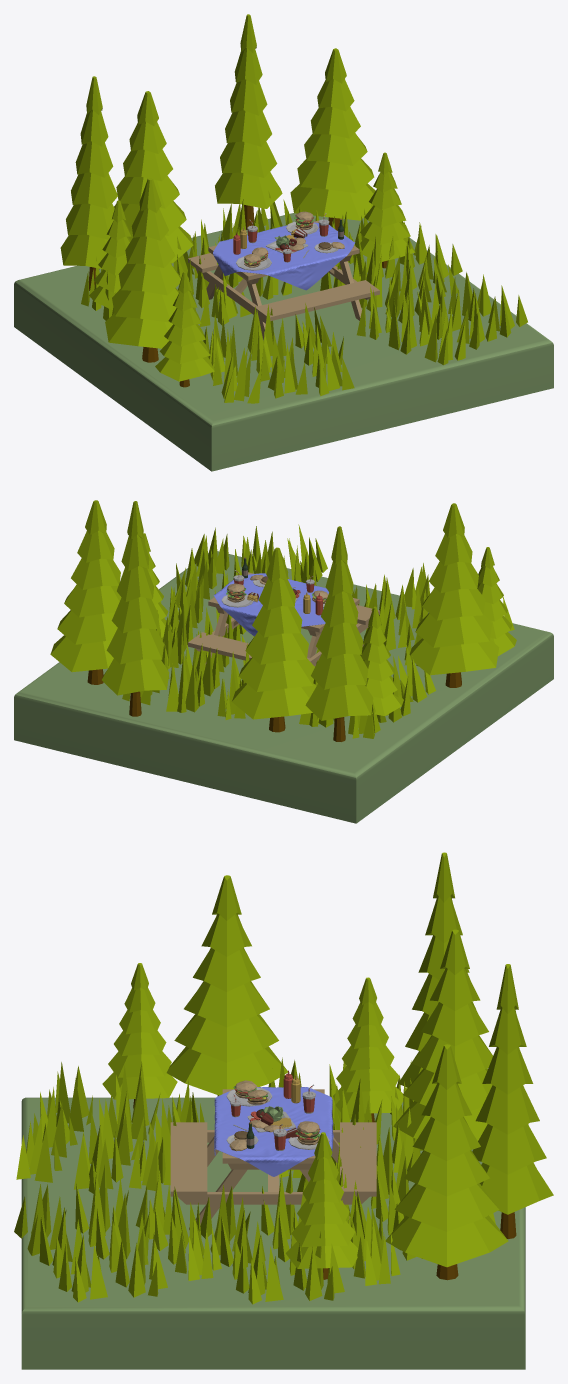
3 views of the same model, one above another, from view 1: azimuth 30°, elevation 25°; view 2: azimuth 150°, elevation 25°; view 3: azimuth 270°, elevation 25° (orthographic). The views are drawn at different scales.
Visible parts, largest first — view 1: TerrainBASE_GEO, TreeLarge_GEO1, TerrainGrass_GEO4, TerrainGrass_GEO, TreeLarge_GEO2, TreeLargeSlim_GEO1, TreeLargeSlim_GEO, TreeLarge_GEO, PicnicTable_GEO, TableCloth_GEO, TerrainGrass_GEO5, TreeSmall_GEO1 (+4 smaller); view 2: TerrainBASE_GEO, TreeLarge_GEO2, TreeLarge_GEO, TreeLarge_GEO1, TreeLargeSlim_GEO1, TreeLargeSlim_GEO, TerrainGrass_GEO4, TerrainGrass_GEO2, TerrainGrass_GEO, TerrainGrass_GEO1, TreeSmall_GEO, TerrainGrass_GEO5 (+4 smaller); view 3: TerrainBASE_GEO, TreeLarge_GEO1, TerrainGrass_GEO4, TreeLarge_GEO2, TerrainGrass_GEO, TreeLargeSlim_GEO1, TerrainGrass_GEO5, PicnicTable_GEO, TreeLarge_GEO, TreeSmall_GEO2, TreeSmall_GEO1, TreeSmall_GEO (+4 smaller).
Part boxes in pixels (box(x1,y1,x2,y2)): TerrainBASE_GEO: box(14, 213, 553, 471); TreeLarge_GEO1: box(290, 48, 375, 230); TerrainGrass_GEO4: box(356, 257, 527, 365); TerrainGrass_GEO: box(203, 303, 354, 403); TreeLarge_GEO2: box(105, 178, 180, 362); TreeLargeSlim_GEO1: box(215, 14, 282, 229); TreeLargeSlim_GEO: box(60, 76, 117, 290); TreeLarge_GEO: box(114, 91, 193, 263); PicnicTable_GEO: box(188, 220, 379, 339); TableCloth_GEO: box(213, 222, 355, 290); TerrainGrass_GEO5: box(320, 204, 462, 311); TreeSmall_GEO1: box(155, 271, 214, 387); TerrainBASE_GEO: box(14, 551, 553, 823); TreeLarge_GEO2: box(409, 503, 499, 687); TreeLarge_GEO: box(232, 547, 316, 732); TreeLarge_GEO1: box(50, 500, 121, 684); TreeLargeSlim_GEO1: box(102, 501, 169, 716); TreeLargeSlim_GEO: box(305, 526, 373, 741); TerrainGrass_GEO4: box(175, 524, 327, 611); TerrainGrass_GEO2: box(122, 621, 253, 719); TerrainGrass_GEO: box(352, 563, 514, 666); TerrainGrass_GEO1: box(299, 643, 435, 738); TreeSmall_GEO: box(360, 606, 403, 715); TerrainGrass_GEO5: box(156, 576, 246, 674); TerrainBASE_GEO: box(21, 1097, 525, 1369); TreeLarge_GEO1: box(385, 1044, 508, 1280); TerrainGrass_GEO4: box(14, 1165, 221, 1302); TreeLarge_GEO2: box(166, 875, 287, 1096); TerrainGrass_GEO: box(16, 1062, 204, 1193); TreeLargeSlim_GEO1: box(472, 964, 553, 1238); TerrainGrass_GEO5: box(200, 1169, 400, 1304); PicnicTable_GEO: box(170, 1089, 376, 1230); TreeLarge_GEO: box(393, 929, 492, 1140); TreeSmall_GEO2: box(285, 1132, 358, 1279); TreeSmall_GEO1: box(102, 963, 177, 1108); TreeSmall_GEO: box(333, 977, 403, 1122).
Bounding box in the file's own units: 15.99 × 10.94 × 16.07.
